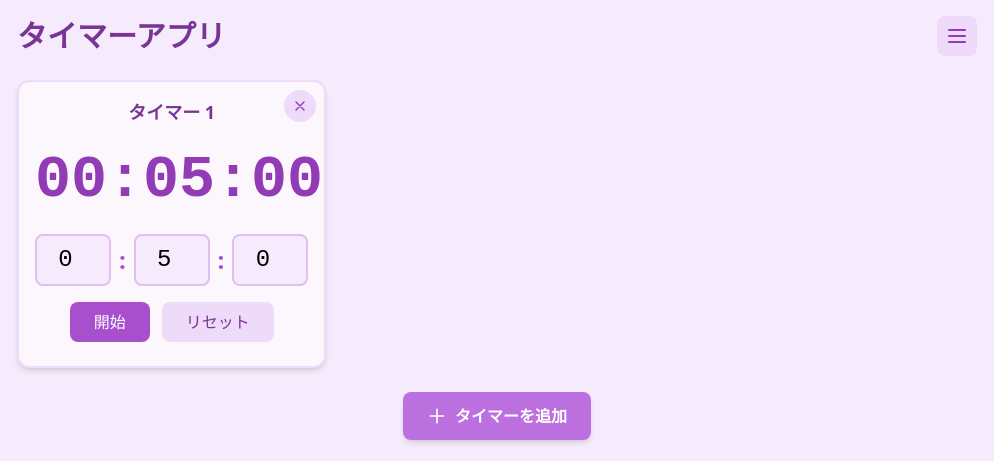
Scenario: App › 複数タイマー管理機能 (Req 6.1-6.5) › 追加ボタンをクリックすると新しいタイマーが追加される
The image size is (994, 461).
Expected: the number of elements with test id "timer-card" is 1, top-left (17, 80), bottom-right (326, 368)
Step 1. Click the button with test id "add-timer-button" → point(497, 416), box top-left (403, 392), bottom-right (591, 440)
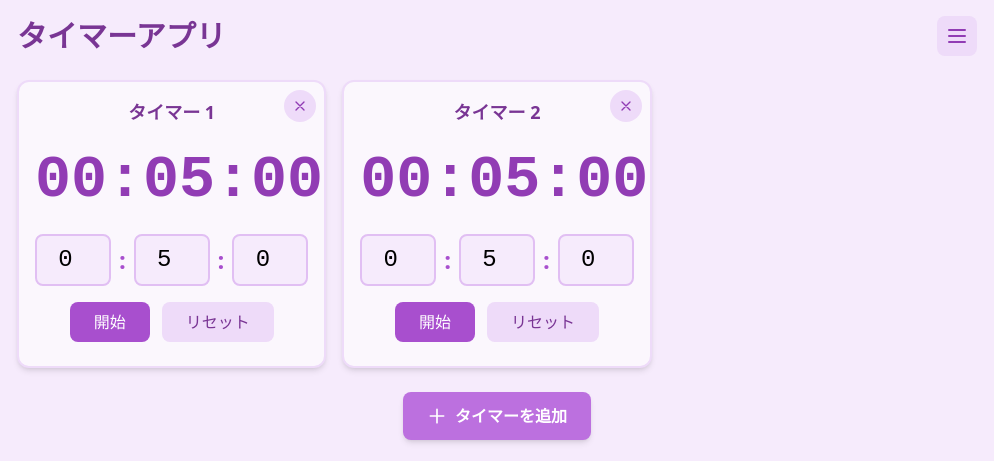
Expected: the number of elements with test id "timer-card" is 2, top-left (17, 80), bottom-right (326, 368); top-left (342, 80), bottom-right (652, 368)
